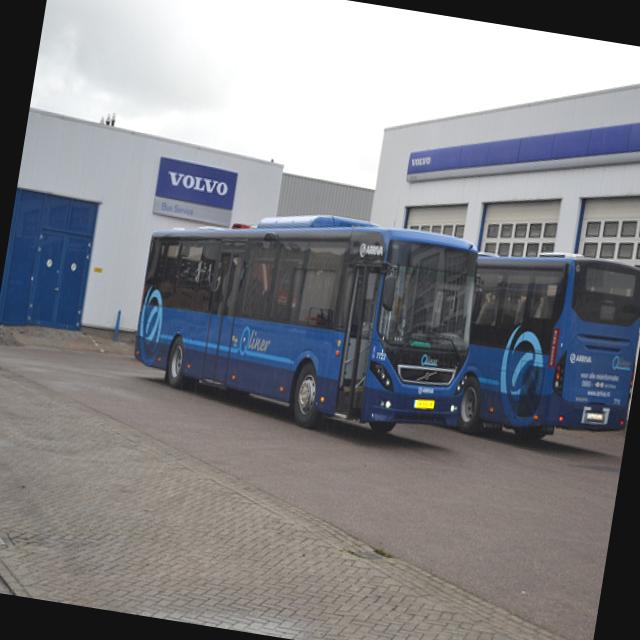Vehicle: (127, 193, 488, 450), (447, 238, 640, 460)
